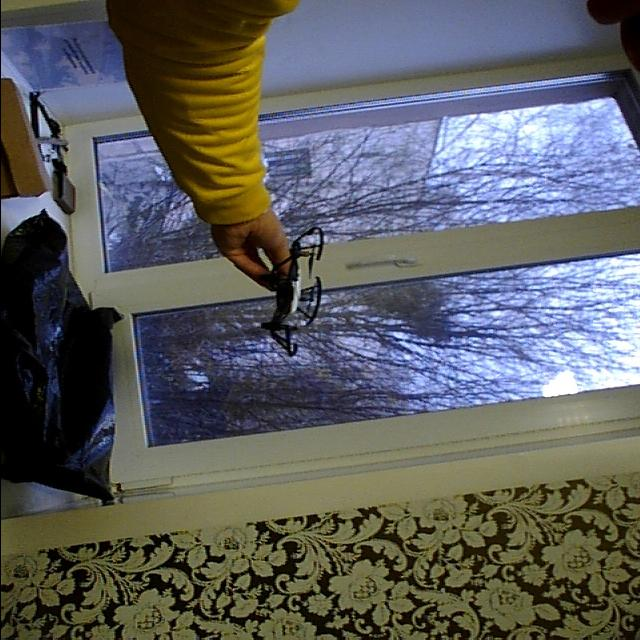drone: (246, 214, 340, 362)
